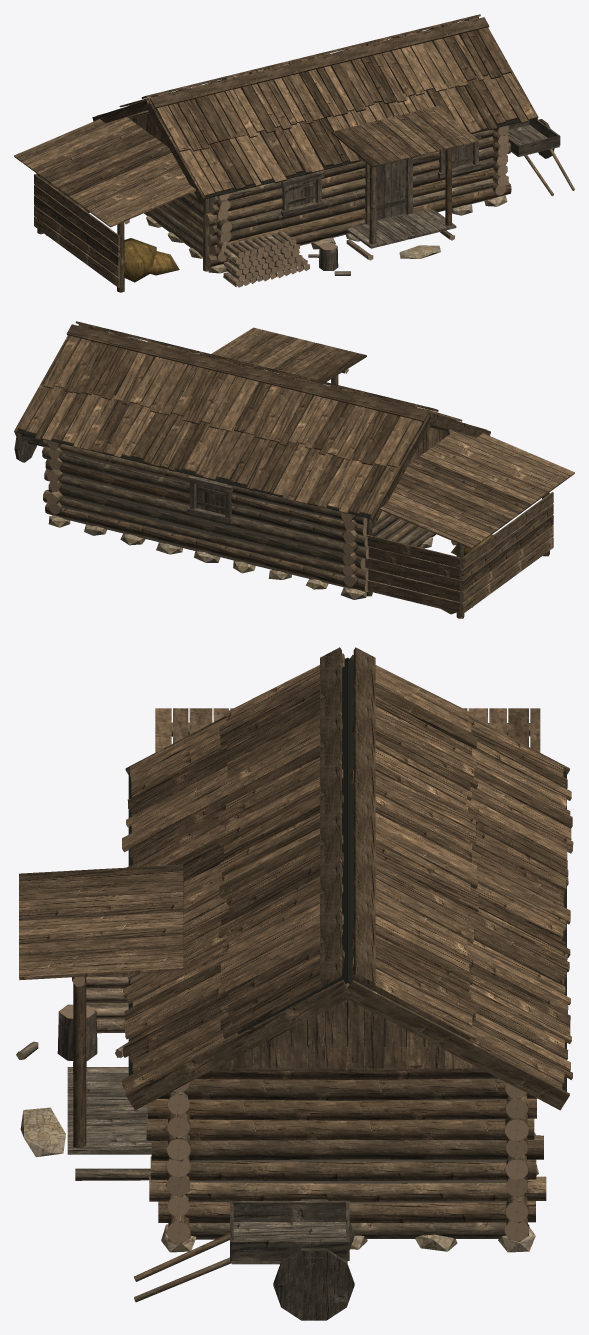
The model's file is house-w4-lite.glb.
3 views of the same model, one above another, from view 1: azimuth 30°, elevation 25°; view 2: azimuth 150°, elevation 25°; view 3: azimuth 270°, elevation 25° (orthographic). The views are drawn at different scales.
Parts seen in each view (by area): view 1: Body, Door; view 2: Body; view 3: Body.
Boxes of the visible parts, <box> form: Body: <box>14,14,574,292</box>; Door: <box>376,160,405,220</box>; Body: <box>14,321,574,618</box>; Body: <box>16,647,573,1320</box>.
Size of the model in its own units: 11.34 by 3.54 by 5.77.
Materials: 4 (3 with a texture image).
